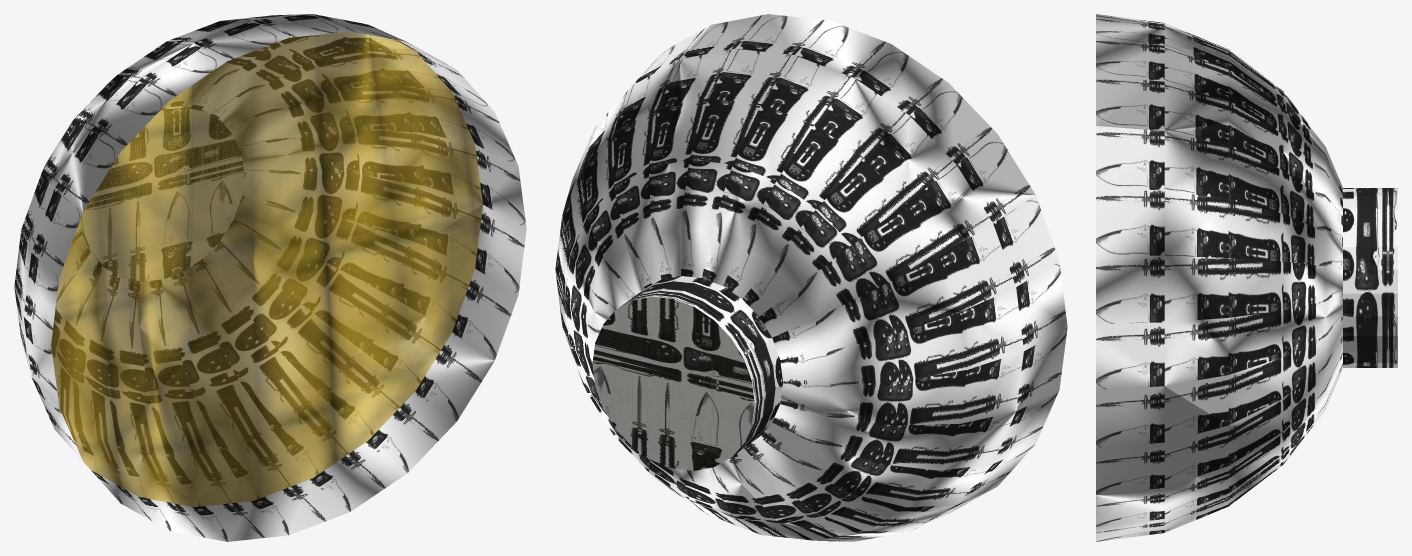
File: model_align.obj
The picture shows the model from 3 angles, left to right: view 1: azimuth 30°, elevation 25°; view 2: azimuth 150°, elevation 25°; view 3: azimuth 270°, elevation 25°; orthographic projection. The views are drawn at different scales.
Bounding box in the file's own units: 0.1486 × 0.1486 × 0.0847.
